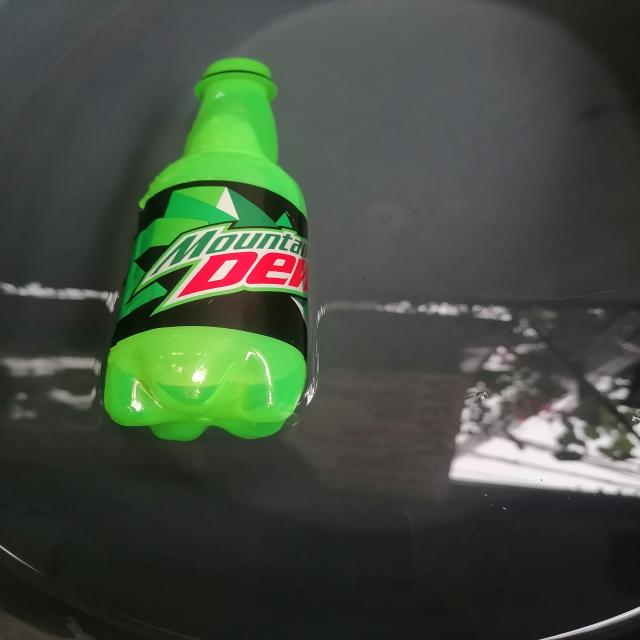Plastic Bottle: (92, 43, 343, 451)
